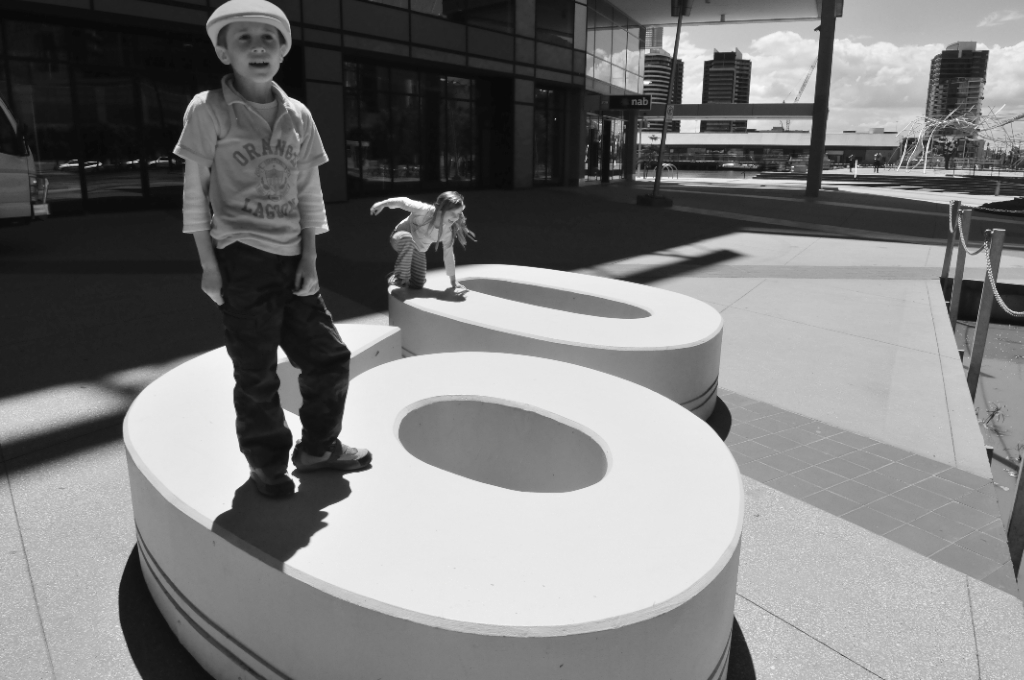Human_hand: (292, 254, 323, 297), (199, 261, 224, 307), (369, 199, 384, 216), (453, 280, 465, 288)
